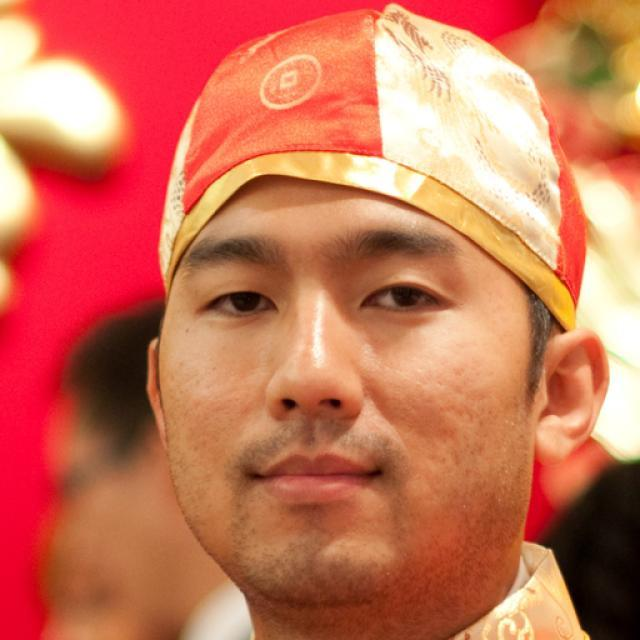content: (158, 173, 538, 612)
